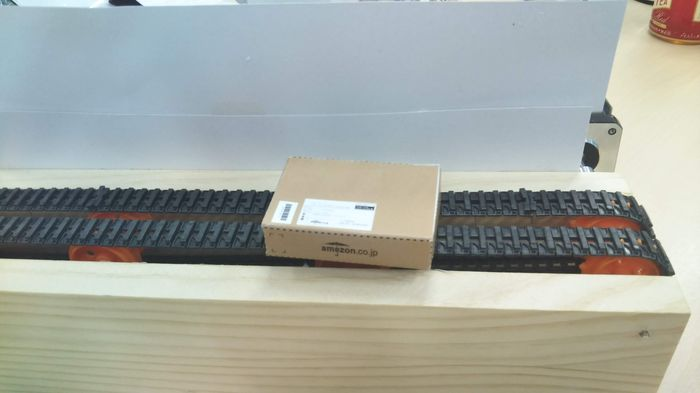box2: (255, 151, 446, 274)
